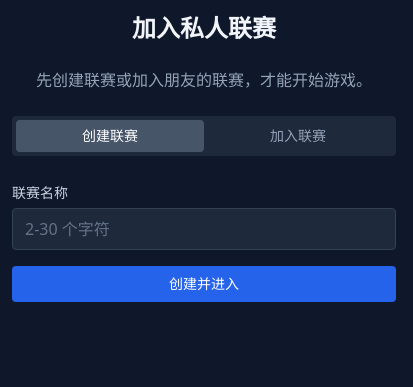
Test case: LeagueGate › shows an error when creation fails
Step 1. Click the button with aria-label "确认创建联赛" → (204,284), box left=12, top=266, right=396, bottom=302
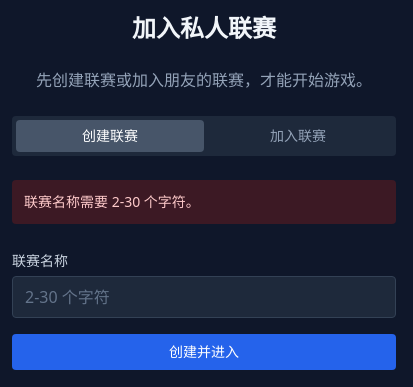
Check: the text "联赛名称需要 2-30 个字符。" is shown, box left=12, top=180, right=396, bottom=224
